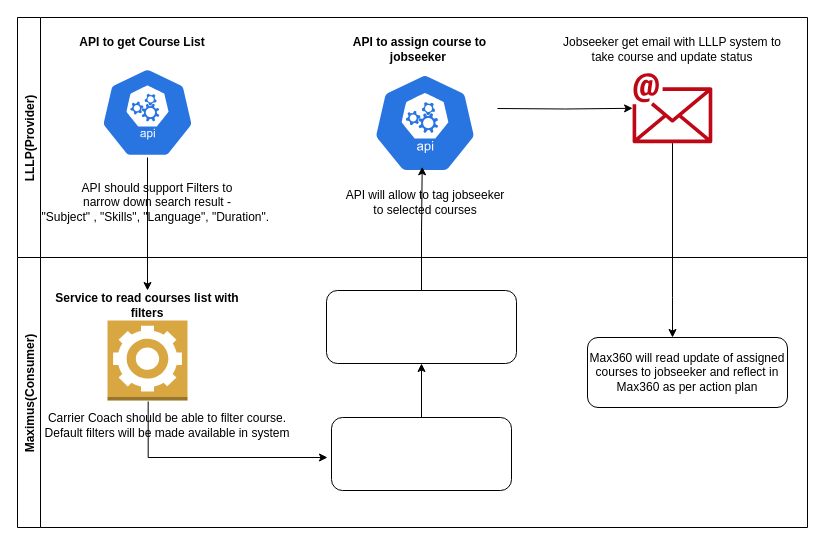
This 825x545 diagram has some shape labels left out. Here are the shapes that lost their labels. From the top down, the centre of each, then its label:
At pixel 421 327: "Carrier Coach select courses as per action plan from list and assign".
At pixel 421 453: "Carrier Coach Views list of courses as per Filter in Max360".
